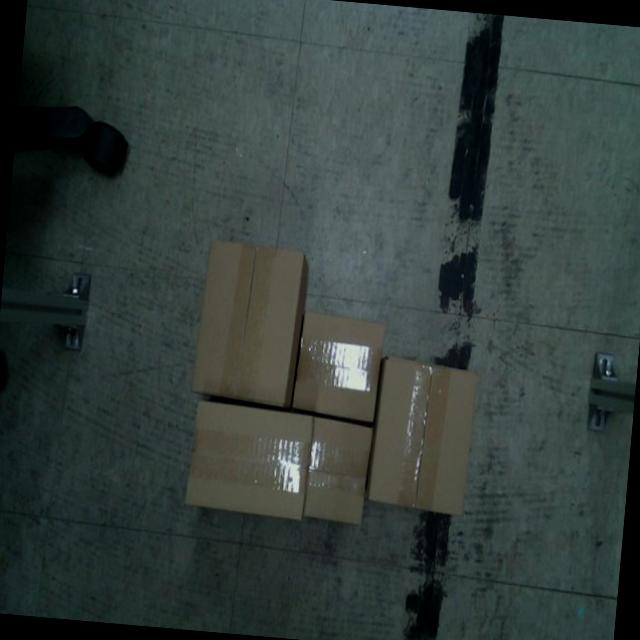box: (191, 238, 308, 408), (366, 354, 480, 518), (179, 398, 317, 523), (289, 314, 383, 424)
